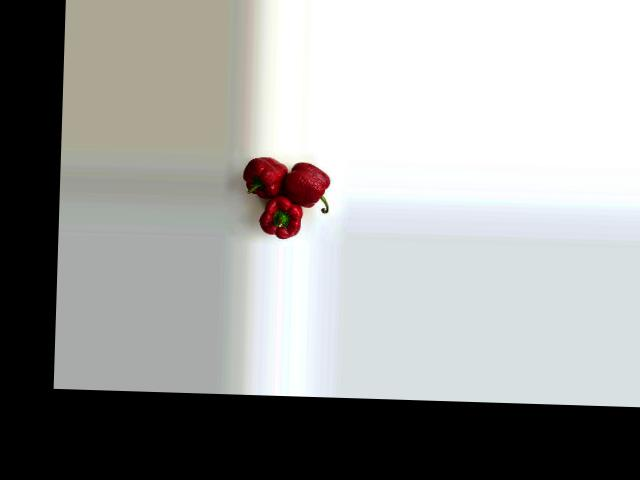bell_pepper: (286, 159, 341, 216)
